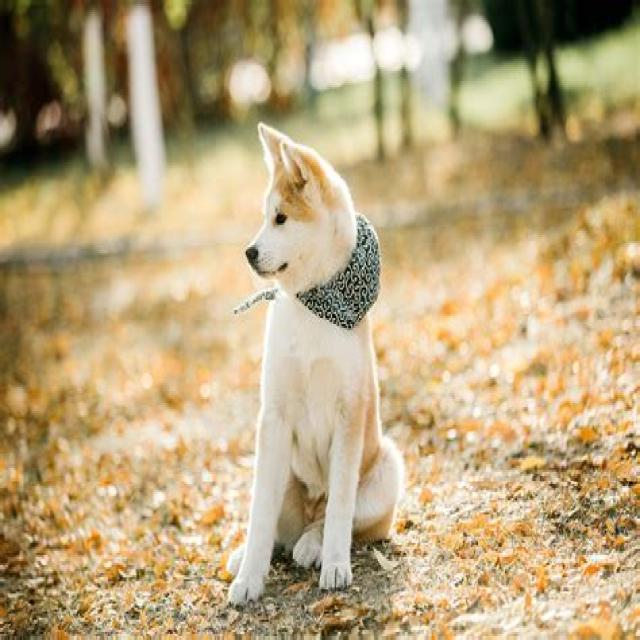dogs: (205, 104, 418, 610)
